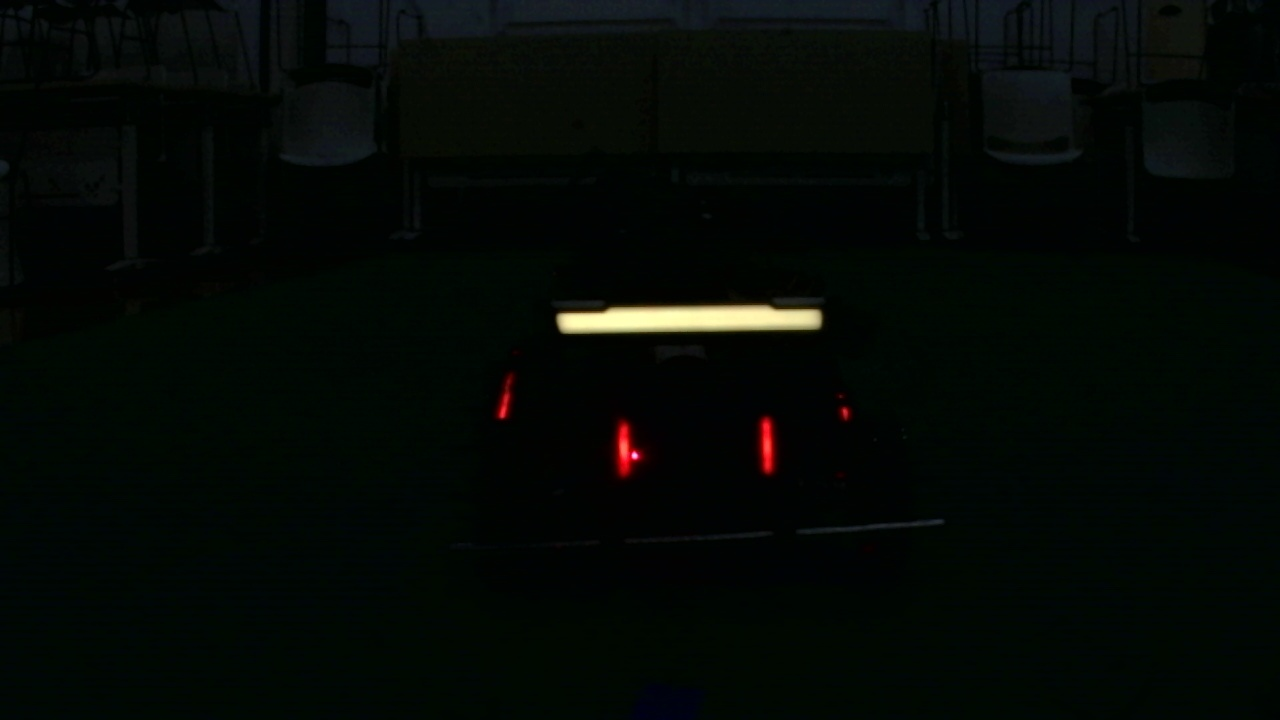lamp: (756, 417, 781, 473), (616, 416, 634, 476)
pair1: (617, 416, 781, 485)
